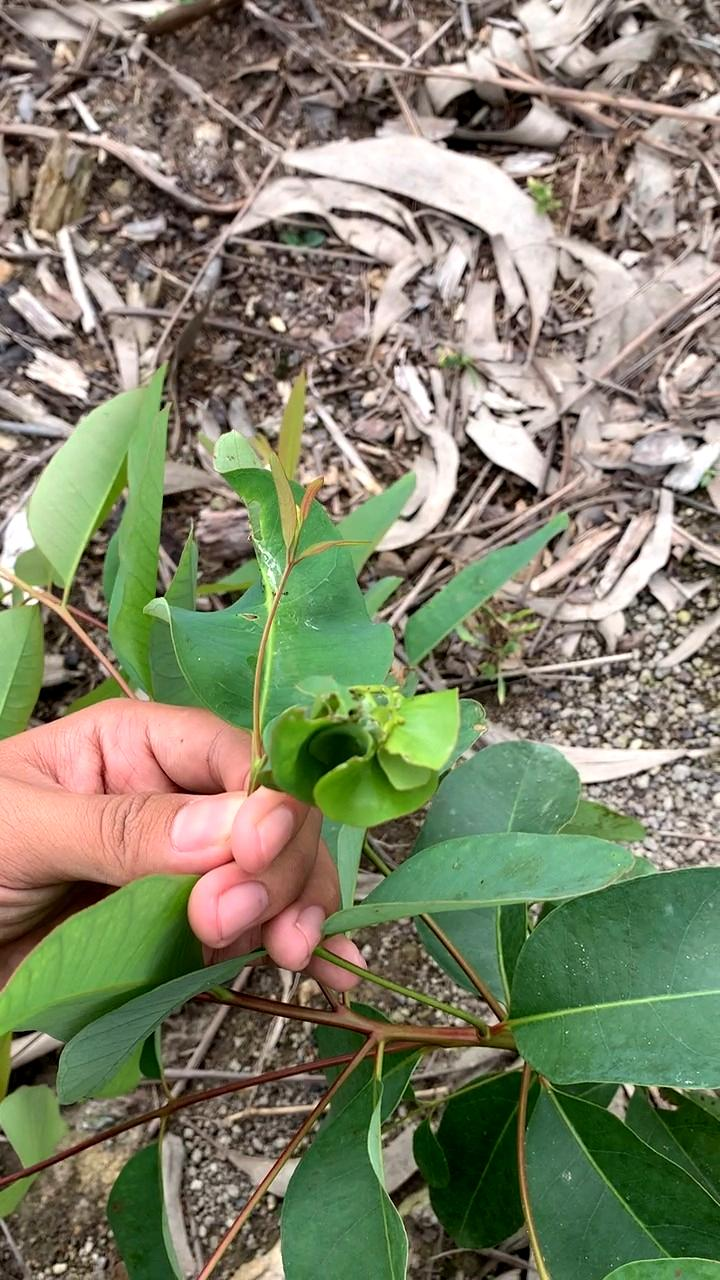Leaf Roller - Leaf: (237, 660, 478, 852)
